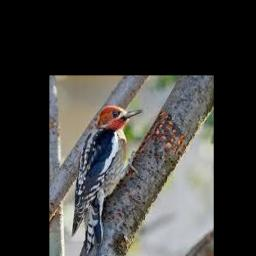Woodpecker: (72, 105, 143, 256)
